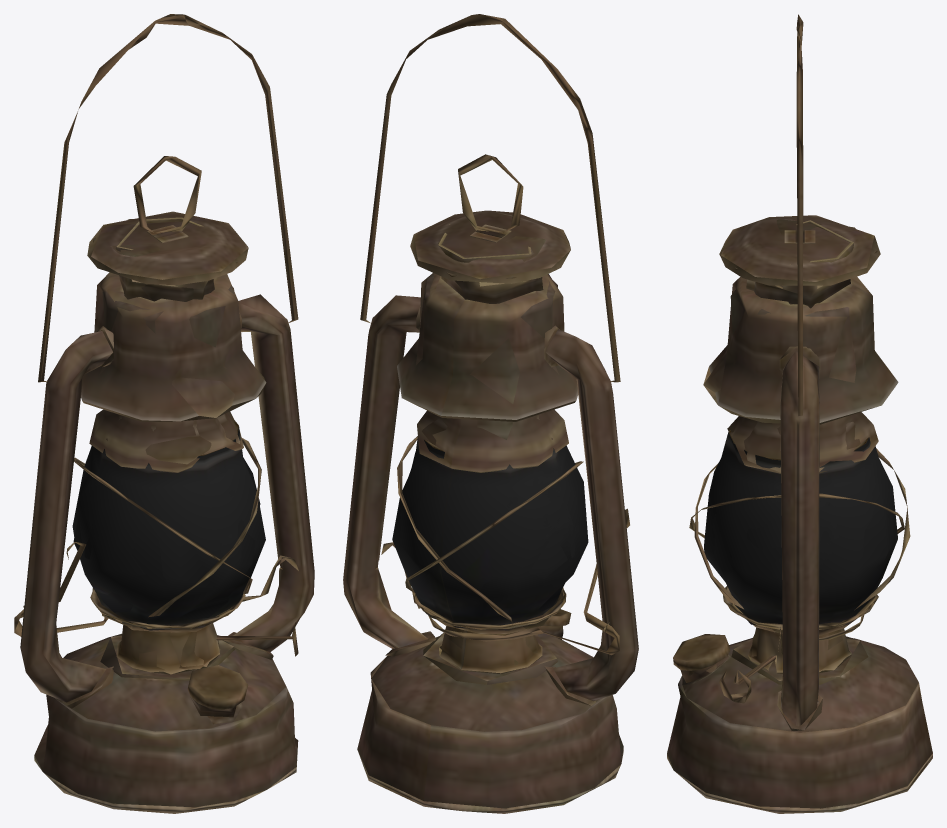
File: Lantern_01.glb
The picture shows the model from 3 angles, left to right: view 1: azimuth 30°, elevation 25°; view 2: azimuth 150°, elevation 25°; view 3: azimuth 270°, elevation 25°; orthographic projection.
Parts seen in each view (by area): view 1: Lantern_01, Lantern_01_glass; view 2: Lantern_01, Lantern_01_glass; view 3: Lantern_01, Lantern_01_glass.
Boxes of the visible parts, box(x1,y1,x2,y2) form: Lantern_01: box(14, 14, 314, 813); Lantern_01_glass: box(72, 419, 265, 630); Lantern_01: box(343, 14, 638, 813); Lantern_01_glass: box(392, 436, 588, 630); Lantern_01: box(667, 14, 932, 813); Lantern_01_glass: box(704, 430, 897, 625).
Bounding box in the file's own units: 0.1209 × 0.2929 × 0.0956.
Materials: 2 (2 with a texture image).
